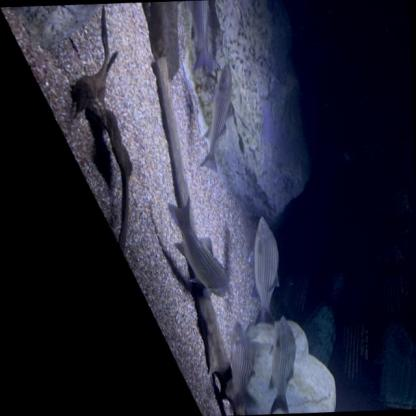fish: (164, 192, 231, 301), (194, 62, 238, 177), (247, 215, 283, 325), (262, 314, 300, 414), (224, 319, 259, 414), (184, 0, 216, 75)
